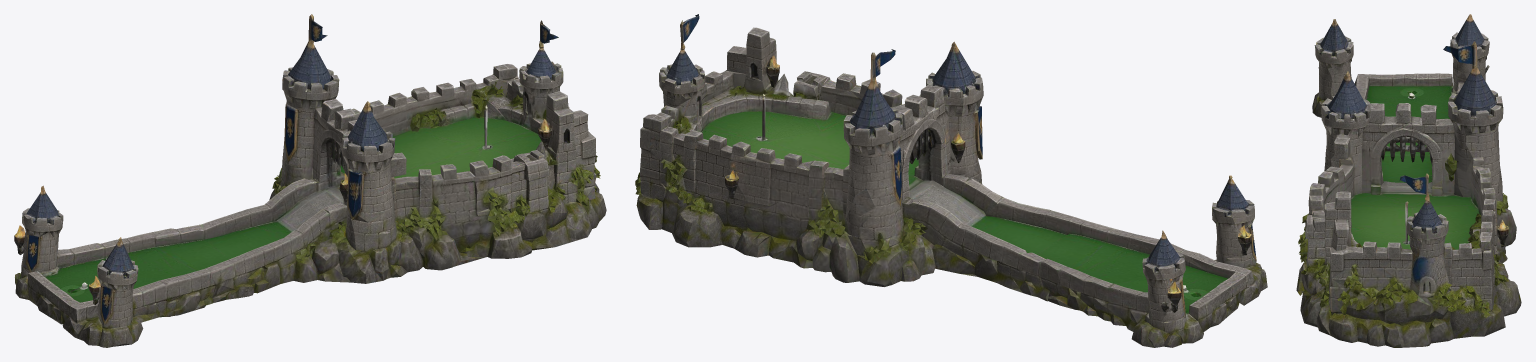
File: golf-castle.glb
The picture shows the model from 3 angles, left to right: view 1: azimuth 30°, elevation 25°; view 2: azimuth 150°, elevation 25°; view 3: azimuth 270°, elevation 25°; orthographic projection. The views are drawn at different scales.
Visible parts, largest first — view 1: output_unwrapped; view 2: output_unwrapped; view 3: output_unwrapped.
Boxes of the visible parts, x1,y1,x2,y2 form: output_unwrapped: (14, 14, 606, 347); output_unwrapped: (635, 14, 1267, 347); output_unwrapped: (1296, 14, 1521, 347).
Size of the model in its own units: 1.9 by 0.6915 by 0.7149.
1 material, 1 textured.
